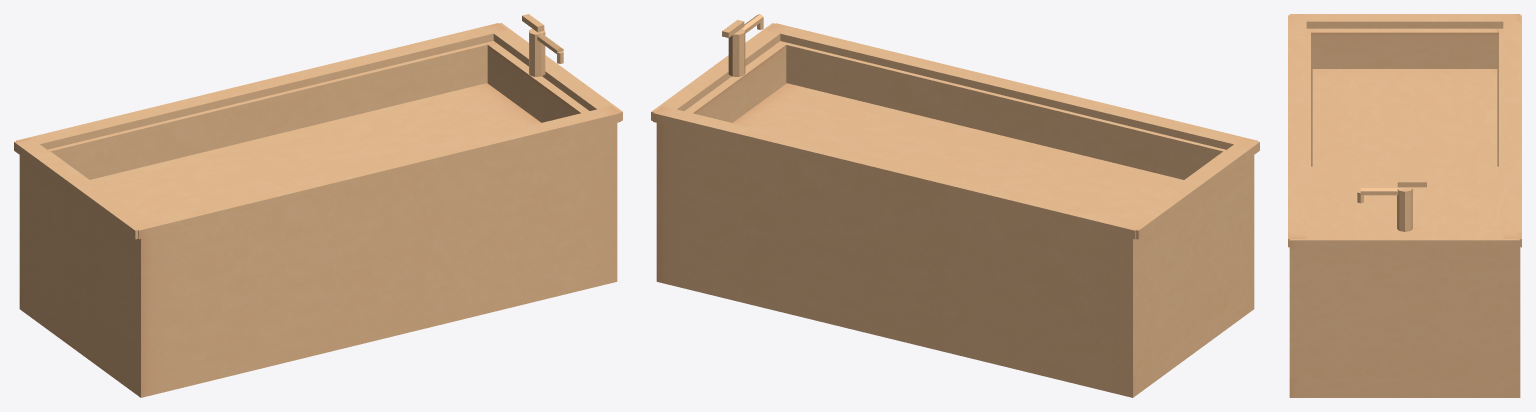
Rendered from Bathtub.fbx.
3 renders of one model, left to right at view 1: azimuth 30°, elevation 25°; view 2: azimuth 150°, elevation 25°; view 3: azimuth 270°, elevation 25°, orthographic. The views are drawn at different scales.
Parts seen in each view (by area): view 1: Bathtub; view 2: Bathtub; view 3: Bathtub.
Boxes of the visible parts, <box> form: Bathtub: <box>14,14,622,397</box>; Bathtub: <box>651,14,1259,397</box>; Bathtub: <box>1288,14,1521,397</box>.
Bounding box in the file's own units: 1.74 × 0.746 × 0.76.
